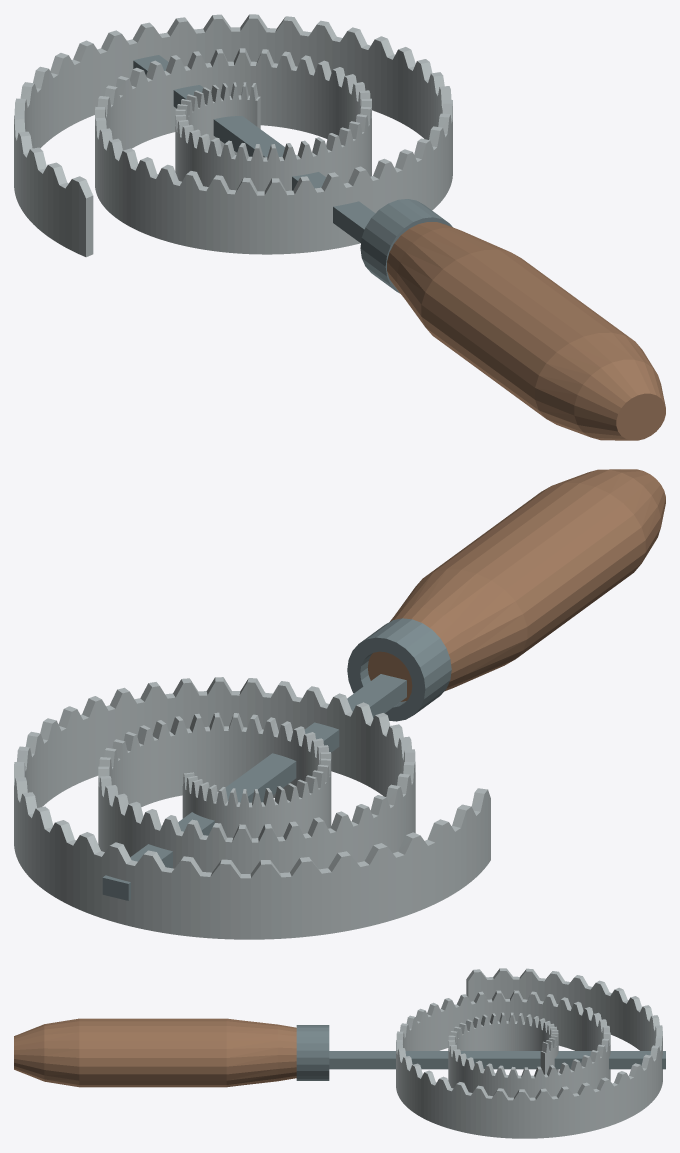
3 views of the same model, one above another, from view 1: azimuth 30°, elevation 25°; view 2: azimuth 150°, elevation 25°; view 3: azimuth 270°, elevation 25° (orthographic). The views are drawn at different scales.
Parts seen in each view (by area): view 1: WholeContinuousBluntToothedSpiralStrip, WholeLongRoundedPalmGrip, WholeContinuousCrossHeadAndHandleTang, WholeThickRootFerrule; view 2: WholeContinuousBluntToothedSpiralStrip, WholeLongRoundedPalmGrip, WholeThickRootFerrule, WholeContinuousCrossHeadAndHandleTang; view 3: WholeContinuousBluntToothedSpiralStrip, WholeLongRoundedPalmGrip, WholeContinuousCrossHeadAndHandleTang, WholeThickRootFerrule.
Boxes of the visible parts, x1,y1,x2,y2 form: WholeContinuousBluntToothedSpiralStrip: [14, 14, 452, 257]; WholeLongRoundedPalmGrip: [387, 222, 665, 440]; WholeContinuousCrossHeadAndHandleTang: [133, 55, 375, 242]; WholeThickRootFerrule: [360, 199, 452, 293]; WholeContinuousBluntToothedSpiralStrip: [14, 677, 490, 939]; WholeLongRoundedPalmGrip: [367, 469, 665, 701]; WholeThickRootFerrule: [347, 618, 451, 721]; WholeContinuousCrossHeadAndHandleTang: [102, 674, 406, 900]; WholeContinuousBluntToothedSpiralStrip: [396, 968, 662, 1138]; WholeLongRoundedPalmGrip: [14, 1018, 296, 1087]; WholeContinuousCrossHeadAndHandleTang: [329, 1051, 665, 1069]; WholeThickRootFerrule: [296, 1025, 329, 1080].
Bounding box in the file's own units: 0.1255 × 0.0278 × 0.279.
